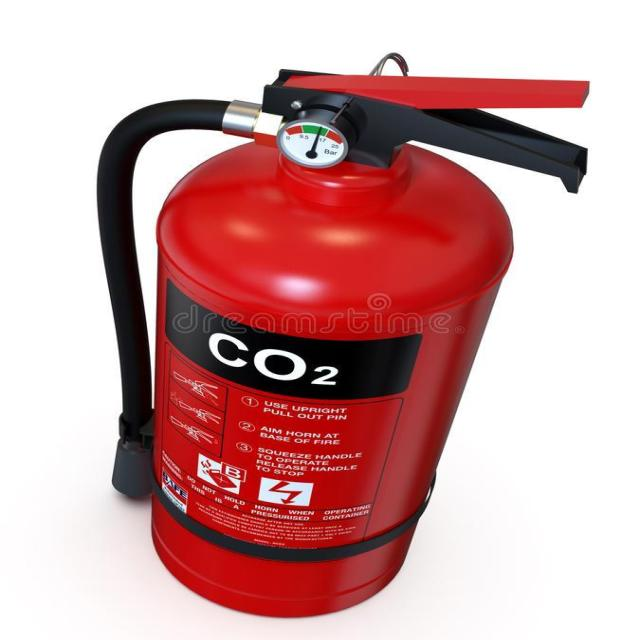fire_extinguisher: (91, 46, 597, 622)
